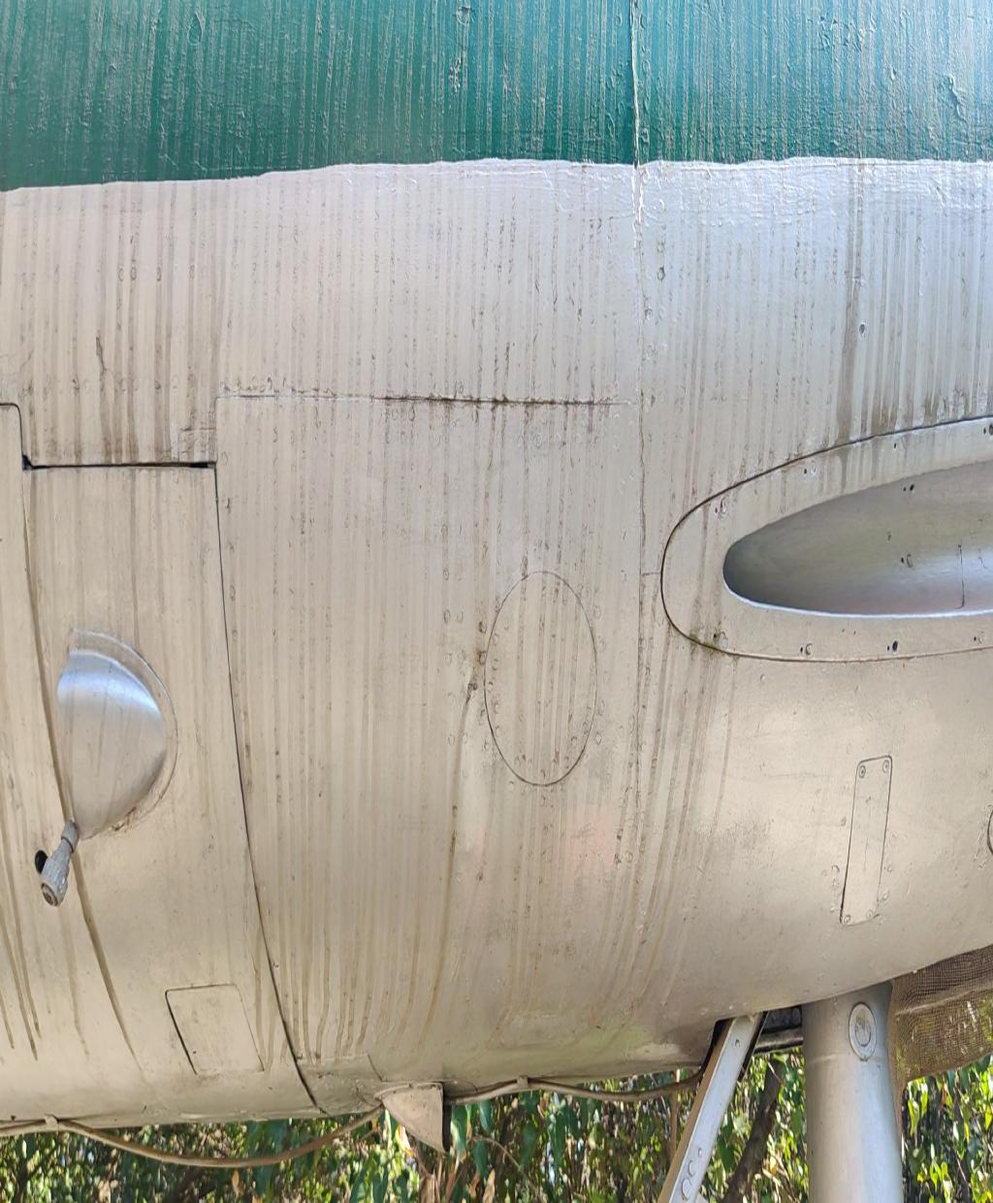corrosion: (90, 327, 116, 400)
dent: (438, 651, 484, 852), (630, 1003, 690, 1074)
